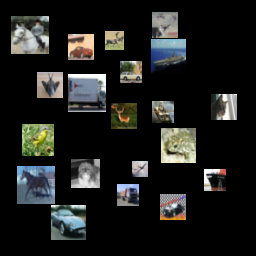airplane: (162, 114, 197, 149), (210, 131, 245, 166), (27, 107, 56, 136), (99, 45, 128, 74)
automobile: (108, 157, 143, 192), (205, 194, 227, 216), (19, 55, 38, 74)
bird: (136, 21, 174, 59), (168, 208, 197, 237)
dog: (206, 96, 228, 118), (179, 88, 201, 110), (54, 71, 70, 87)
frog: (173, 172, 192, 191)
ship: (69, 129, 104, 164), (94, 98, 120, 124), (30, 4, 49, 23), (93, 11, 112, 30)
